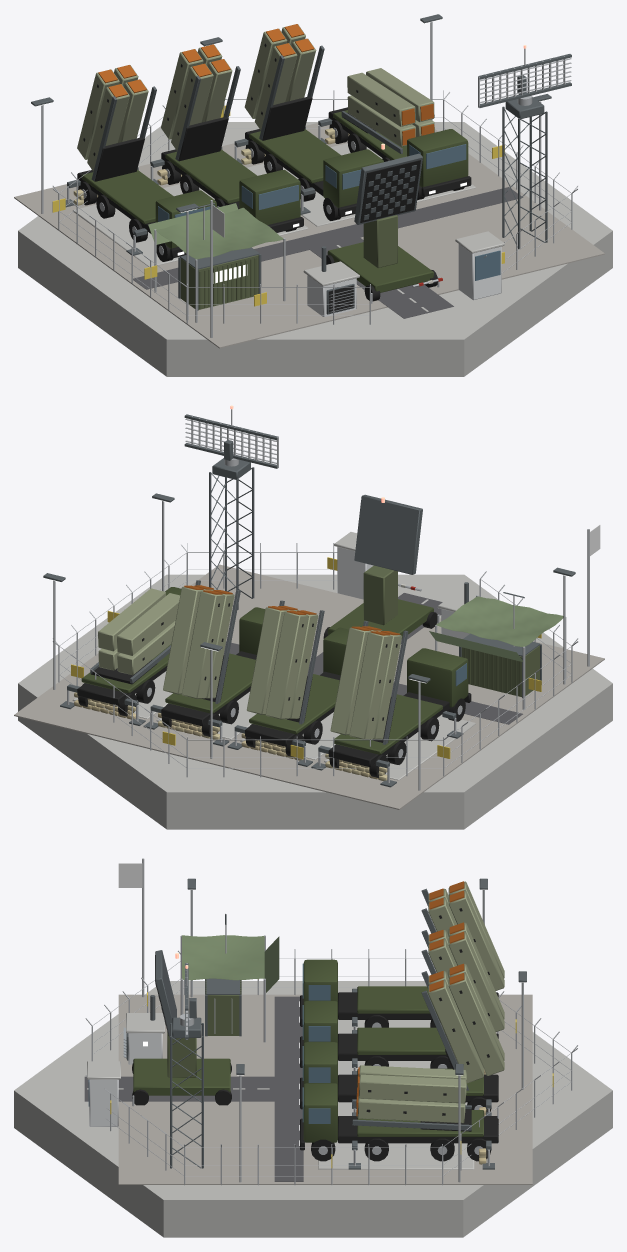
The model's file is samSite.glb.
The picture shows the model from 3 angles, top to bottom: view 1: azimuth 30°, elevation 25°; view 2: azimuth 150°, elevation 25°; view 3: azimuth 270°, elevation 25°; orthographic projection.
Visible parts, largest first — view 1: wall_concrete, paint, gravel, dark, steel_dark, metal, asphalt, net, glass, cladding, hazard, sandbag; view 2: wall_concrete, paint, gravel, steel_dark, metal, dark, net, sandbag, asphalt, cladding, hazard; view 3: wall_concrete, paint, gravel, dark, metal, steel_dark, asphalt, net, cladding, glass, banner.
Boxes of the visible parts, x1=… form: wall_concrete: x1=18, y1=122, x2=612, y2=376; paint: x1=77, y1=24, x2=468, y2=309; gravel: x1=14, y1=123, x2=604, y2=348; dark: x1=77, y1=43, x2=471, y2=313; steel_dark: x1=31, y1=14, x2=571, y2=314; metal: x1=41, y1=22, x2=577, y2=337; asphalt: x1=133, y1=187, x2=523, y2=318; net: x1=148, y1=203, x2=283, y2=259; glass: x1=158, y1=144, x2=500, y2=280; cladding: x1=307, y1=244, x2=501, y2=316; hazard: x1=52, y1=105, x2=504, y2=306; sandbag: x1=73, y1=128, x2=349, y2=205; wall_concrete: x1=18, y1=532, x2=612, y2=829; paint: x1=81, y1=565, x2=539, y2=754; gravel: x1=14, y1=564, x2=604, y2=809; steel_dark: x1=43, y1=414, x2=575, y2=787; metal: x1=52, y1=409, x2=589, y2=790; dark: x1=77, y1=603, x2=471, y2=777; net: x1=429, y1=596, x2=563, y2=661; sandbag: x1=74, y1=692, x2=387, y2=780; asphalt: x1=223, y1=593, x2=522, y2=724; cladding: x1=337, y1=547, x2=469, y2=638; hazard: x1=71, y1=557, x2=541, y2=758; wall_concrete: x1=14, y1=981, x2=612, y2=1237; paint: x1=133, y1=881, x2=504, y2=1142; gravel: x1=118, y1=994, x2=532, y2=1184; dark: x1=126, y1=908, x2=498, y2=1161; metal: x1=85, y1=858, x2=577, y2=1185; steel_dark: x1=127, y1=878, x2=526, y2=1169; asphalt: x1=84, y1=996, x2=303, y2=1181; net: x1=182, y1=935, x2=279, y2=992; cladding: x1=89, y1=1033, x2=162, y2=1126; glass: x1=88, y1=963, x2=330, y2=1123; banner: x1=118, y1=863, x2=142, y2=887.
Size of the model in its own units: 21.3 by 10.62 by 24.6.
